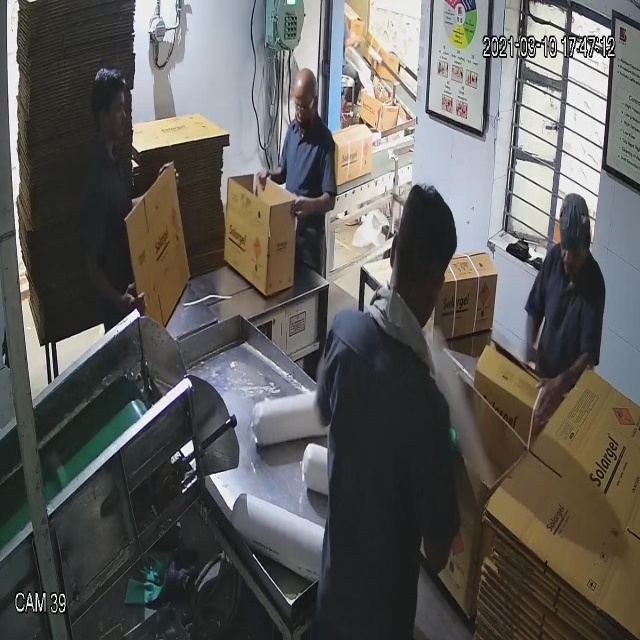Guantes: (283, 180, 340, 231)
Sin_guantes: (71, 236, 150, 332), (534, 351, 604, 436)
